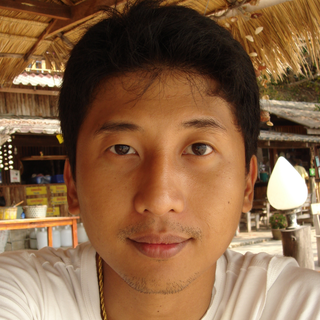eye: (178, 136, 221, 163), (101, 138, 145, 163)
